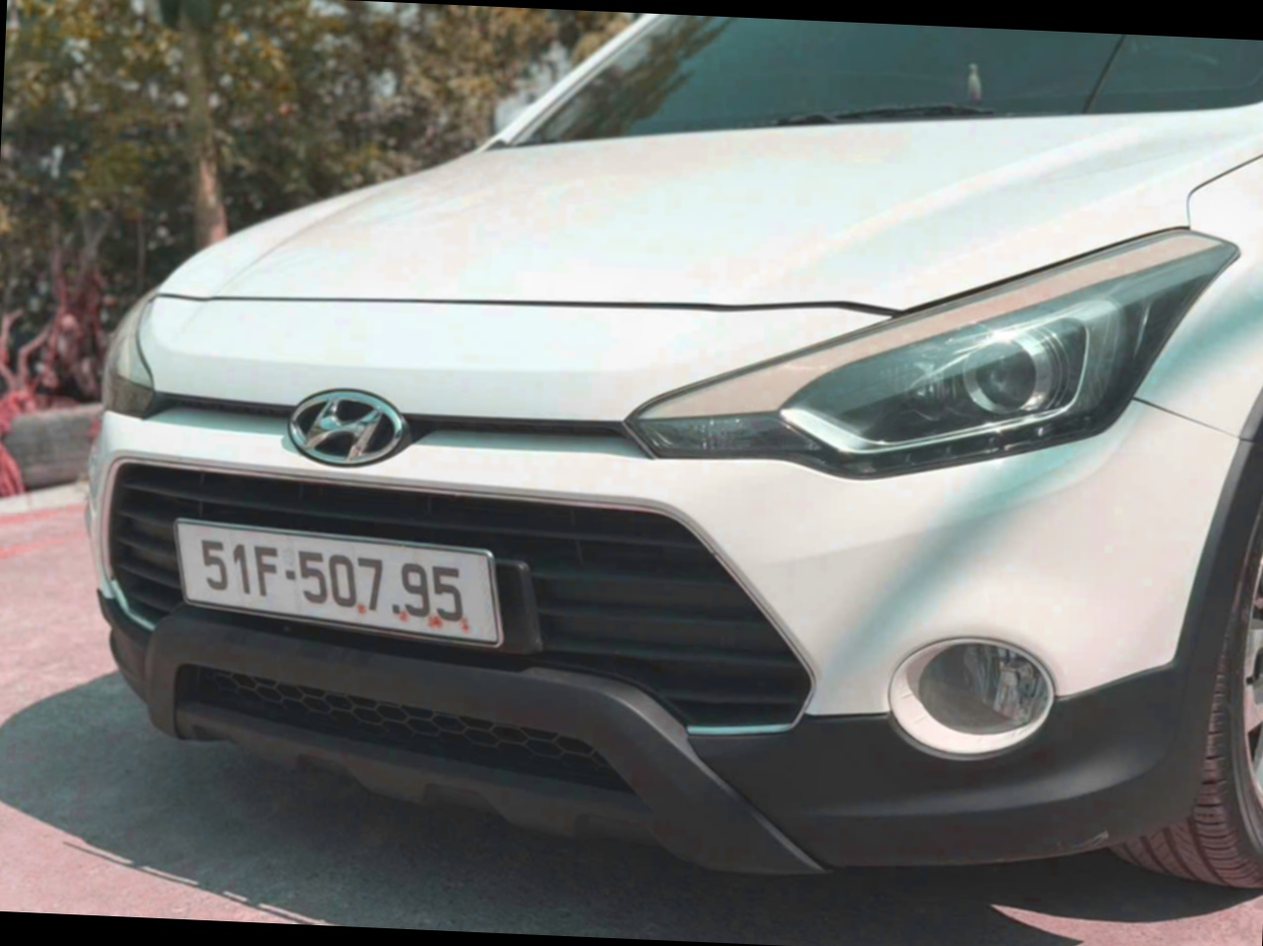Bien-so: (140, 528, 456, 623)
